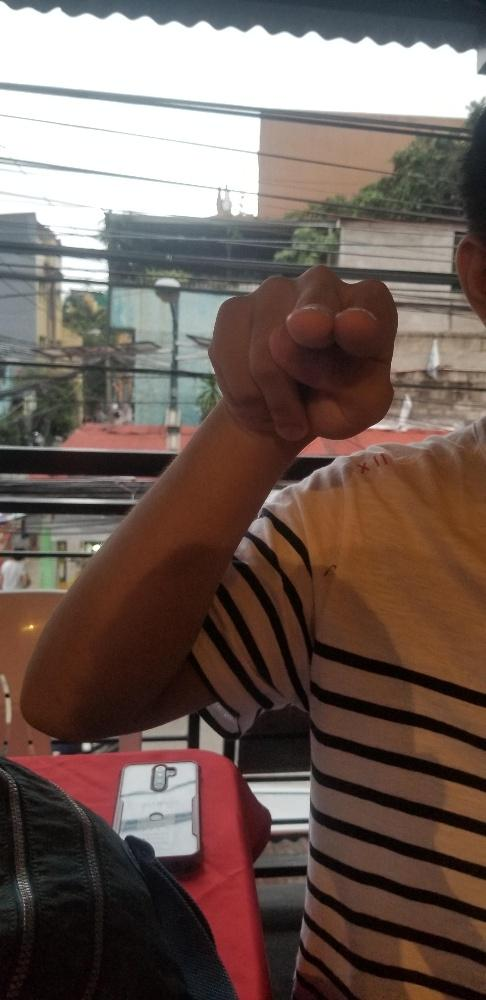n: (207, 264, 397, 441)
